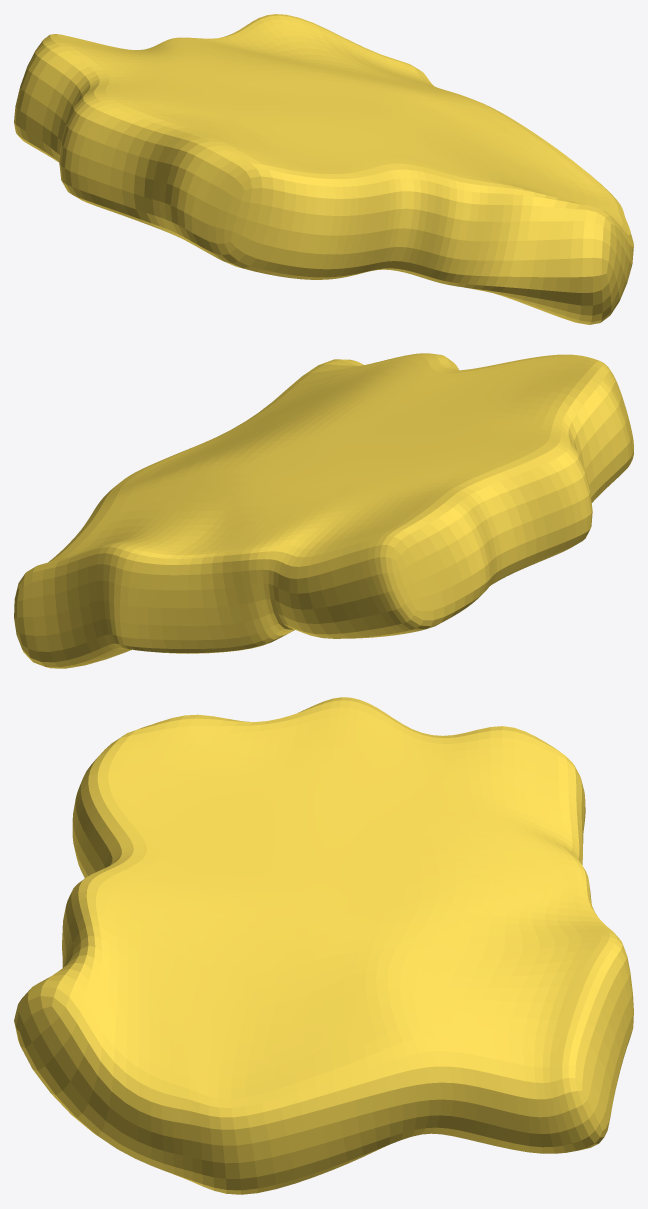
The model's file is MustardPoured.fbx.
3 renders of one model, top to bottom at view 1: azimuth 30°, elevation 25°; view 2: azimuth 150°, elevation 25°; view 3: azimuth 270°, elevation 25°, orthographic. The views are drawn at different scales.
Parts seen in each view (by area): view 1: TomatoPoured; view 2: TomatoPoured; view 3: TomatoPoured.
Part boxes in pixels (left/top/right/bottom): TomatoPoured: left=14, top=14, right=633, bottom=324; TomatoPoured: left=14, top=353, right=633, bottom=668; TomatoPoured: left=14, top=697, right=633, bottom=1194.
Bounding box in the file's own units: 262 × 130 × 268.
